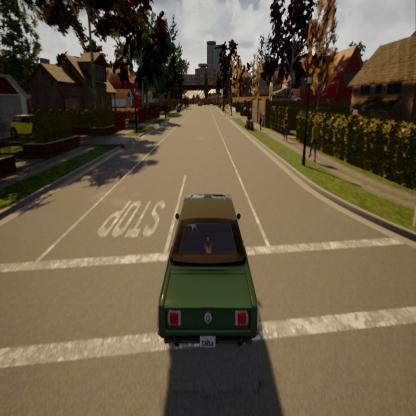Cars: (141, 157, 284, 375)
Pedestrian: (305, 117, 320, 167), (278, 108, 292, 149), (255, 104, 265, 137)
